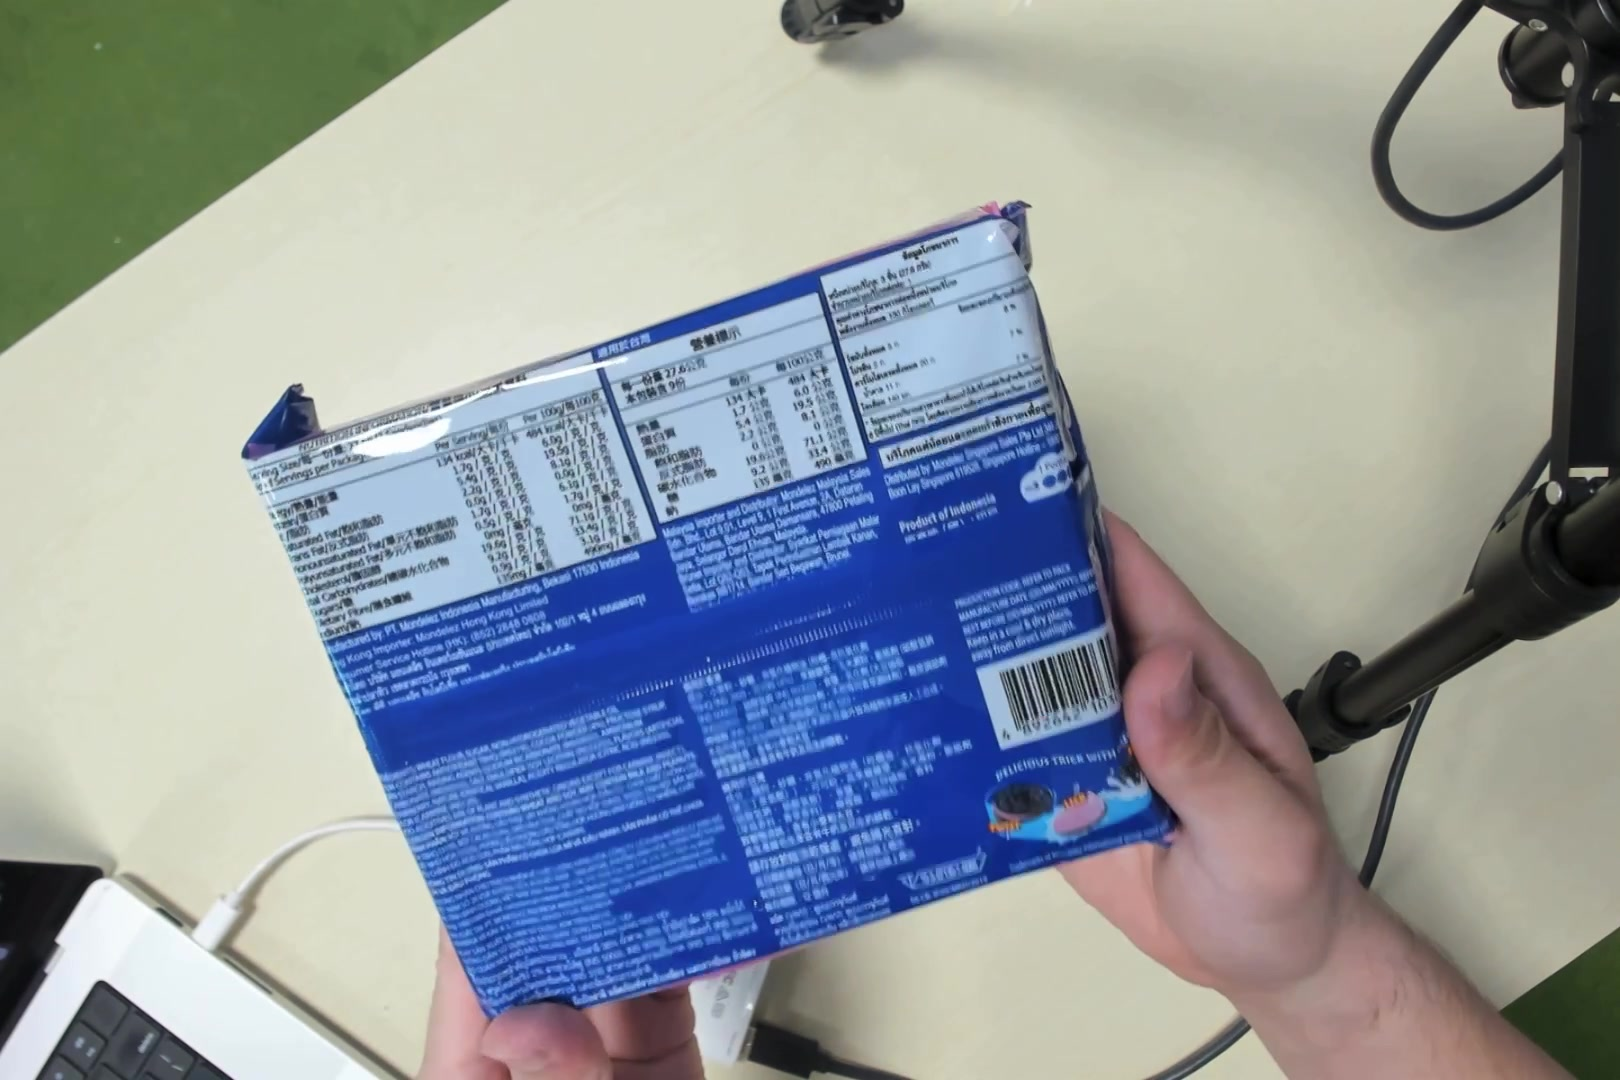SweetsChocolatesOthers_200-299g_Halal_NonHealthy: (342, 344, 1122, 912)
